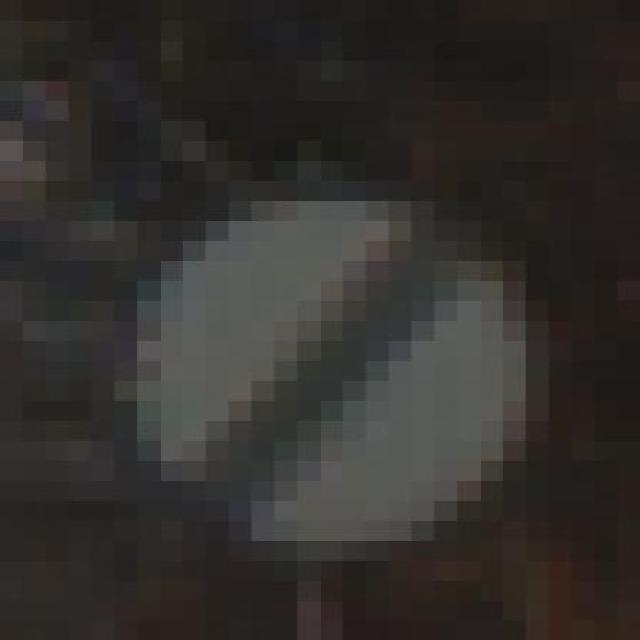End of all speed and passing limits: (137, 160, 572, 580)
